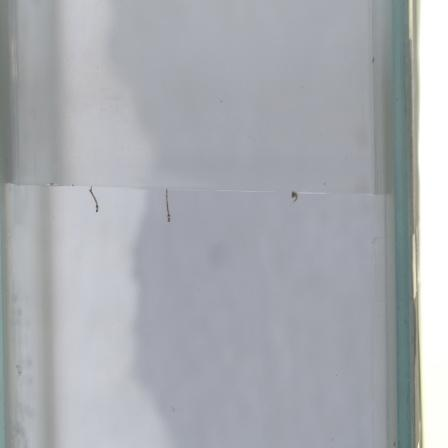Jentik-Nyamuk: (159, 184, 177, 228), (82, 183, 101, 215)
